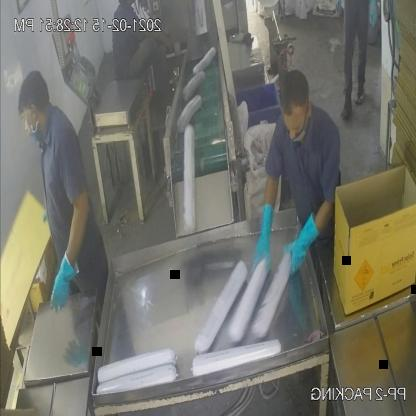glove: (38, 226, 86, 322), (280, 201, 325, 281), (252, 178, 284, 285)
